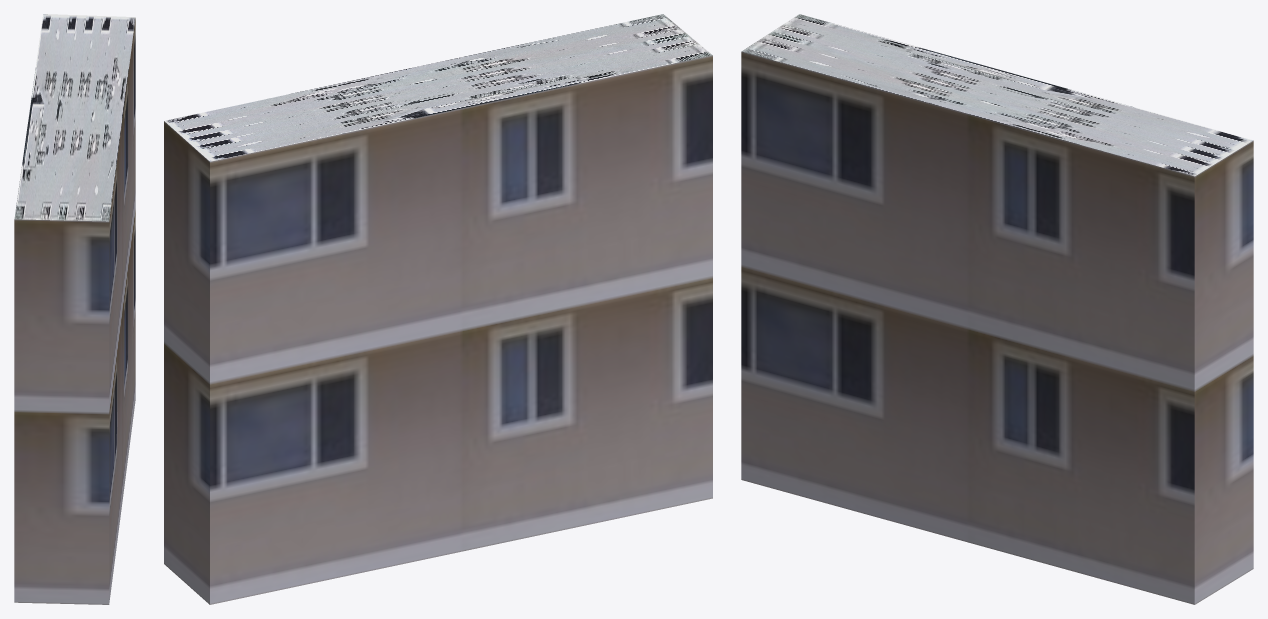
Rendered from ResTex__3680.fbx.
3 views of the same model, side by side, from view 1: azimuth 30°, elevation 25°; view 2: azimuth 150°, elevation 25°; view 3: azimuth 270°, elevation 25° (orthographic). The views are drawn at different scales.
Parts seen in each view (by area): view 1: CityEngineMaterial_21_m, CityEngineMaterial_4_m; view 2: CityEngineMaterial_21_m, CityEngineMaterial_4_m; view 3: CityEngineMaterial_21_m, CityEngineMaterial_4_m.
Boxes of the visible parts, x1=… form: CityEngineMaterial_21_m: x1=14, y1=18, x2=135, y2=604; CityEngineMaterial_4_m: x1=14, y1=14, x2=135, y2=221; CityEngineMaterial_21_m: x1=164, y1=55, x2=712, y2=604; CityEngineMaterial_4_m: x1=164, y1=14, x2=712, y2=161; CityEngineMaterial_21_m: x1=741, y1=51, x2=1253, y2=604; CityEngineMaterial_4_m: x1=741, y1=14, x2=1253, y2=176.
Size of the model in its own units: 4.88 by 6 by 6.5.
Materials: 2 (2 with a texture image).
